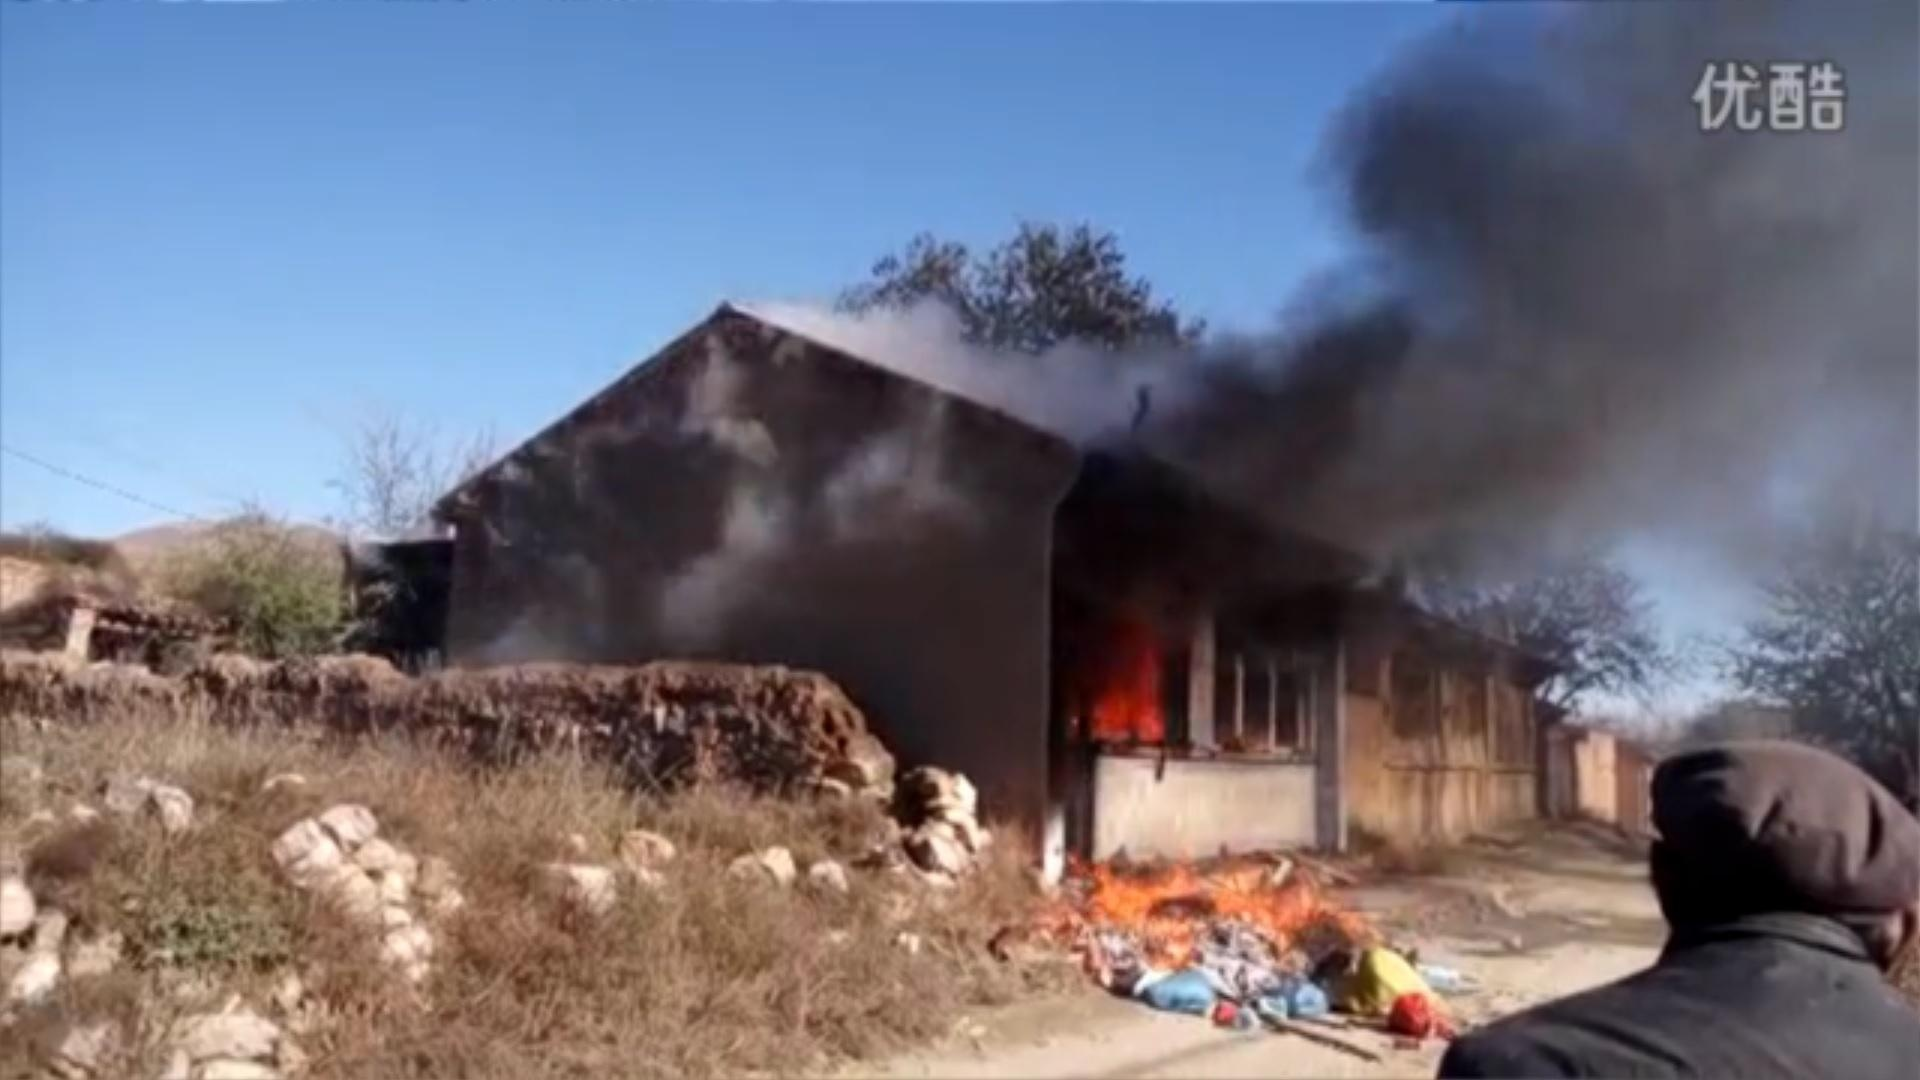fire: (1091, 647, 1172, 742)
